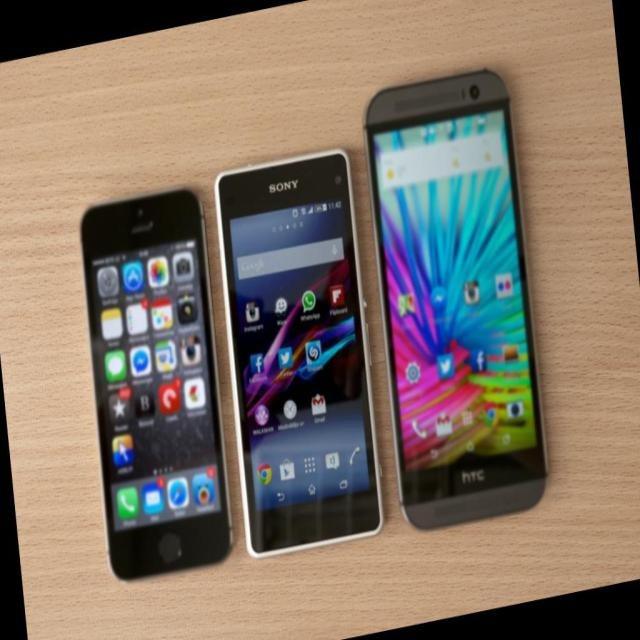handphone: (370, 81, 546, 516), (219, 147, 381, 554), (85, 188, 230, 572)
